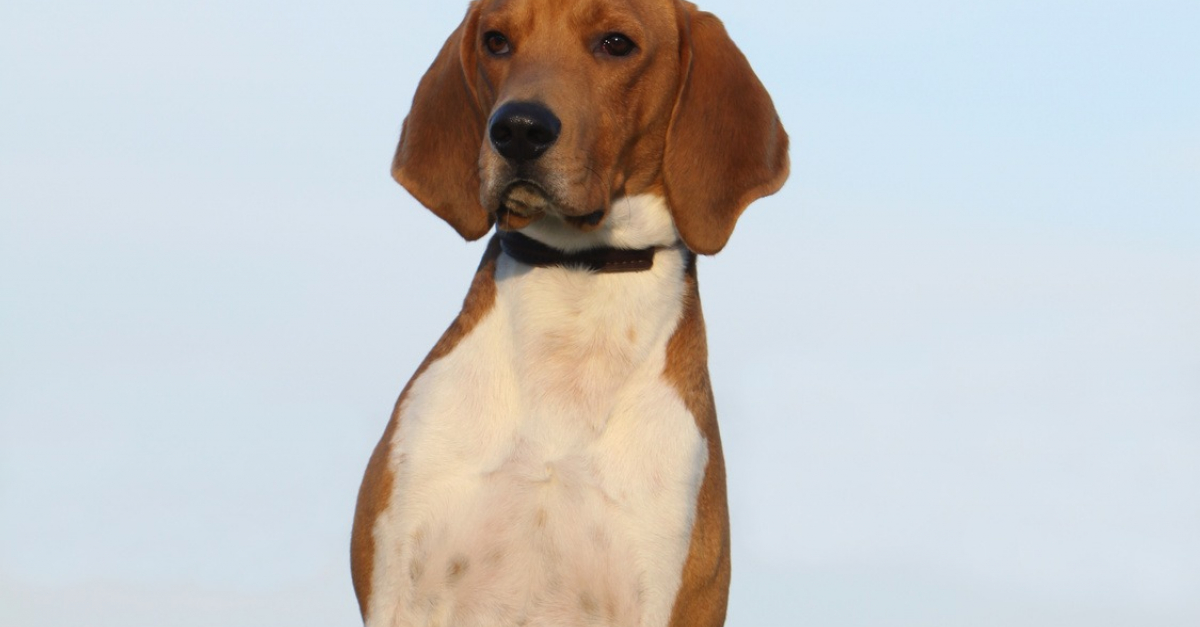dog: (326, 10, 821, 627)
